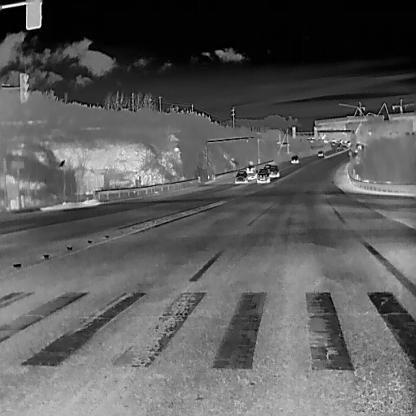car: (255, 168, 270, 184), (234, 170, 248, 182), (268, 165, 279, 177), (262, 163, 272, 173), (290, 154, 299, 164), (316, 150, 322, 156), (353, 147, 358, 153), (356, 144, 362, 149), (341, 145, 346, 150), (336, 144, 341, 148), (338, 138, 343, 142), (331, 140, 335, 144), (346, 140, 350, 144), (343, 139, 347, 143), (339, 142, 342, 146), (330, 138, 334, 141)
truck: (244, 165, 259, 180), (323, 136, 328, 143)
